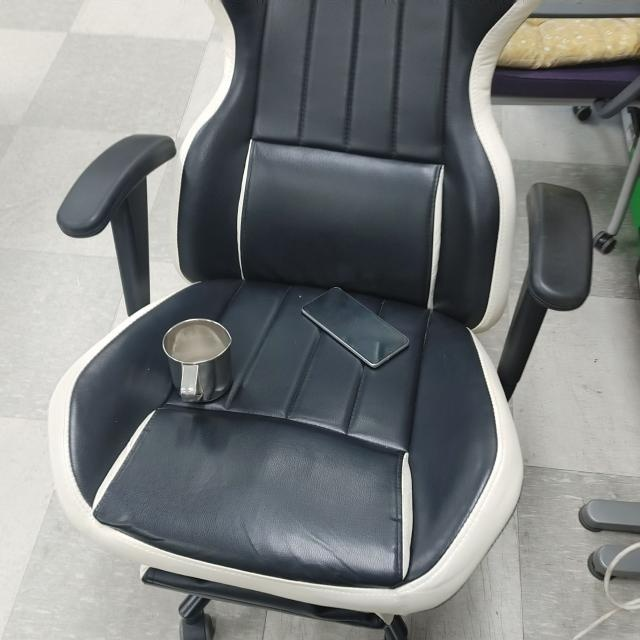cup: (161, 314, 235, 406)
phone: (301, 285, 411, 370)
